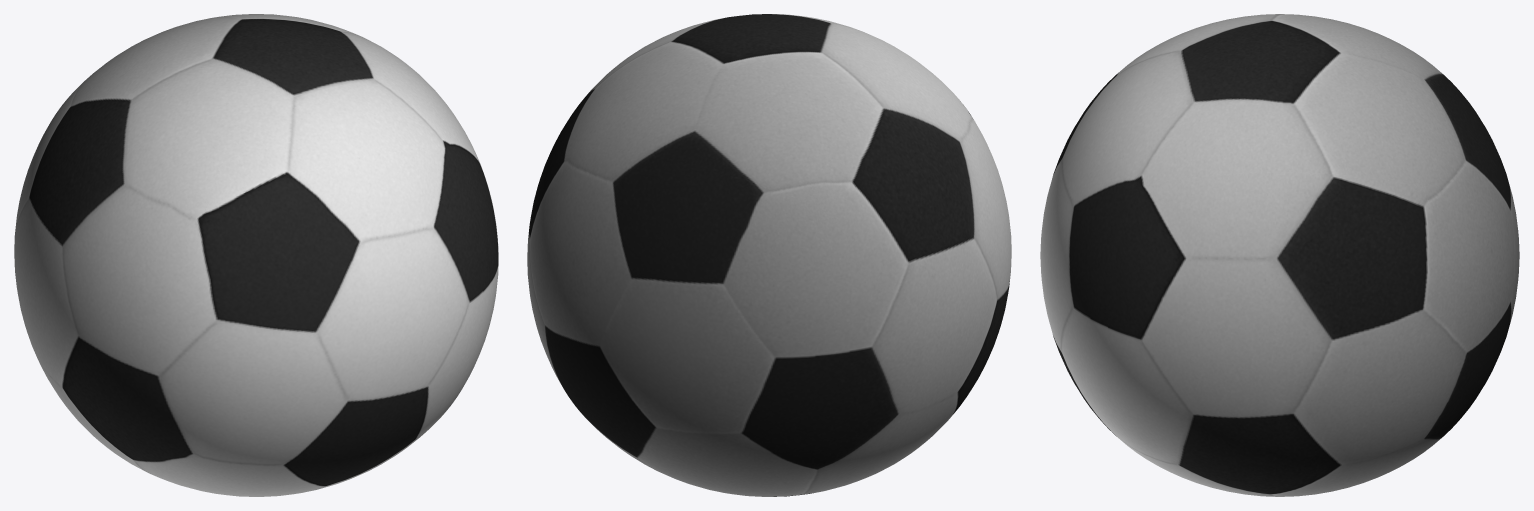
The model's file is australia.glb.
3 renders of one model, left to right at view 1: azimuth 30°, elevation 25°; view 2: azimuth 150°, elevation 25°; view 3: azimuth 270°, elevation 25°, orthographic.
Parts seen in each view (by area): view 1: 10536_soccerball_V1_iterations-2; view 2: 10536_soccerball_V1_iterations-2; view 3: 10536_soccerball_V1_iterations-2.
Part boxes in pixels (x1,y1,x2,y2): 10536_soccerball_V1_iterations-2: (14, 14, 498, 496); 10536_soccerball_V1_iterations-2: (527, 14, 1011, 496); 10536_soccerball_V1_iterations-2: (1040, 14, 1519, 496).
Size of the model in its own units: 14.51 by 14.51 by 14.51.
1 material, 1 textured.
